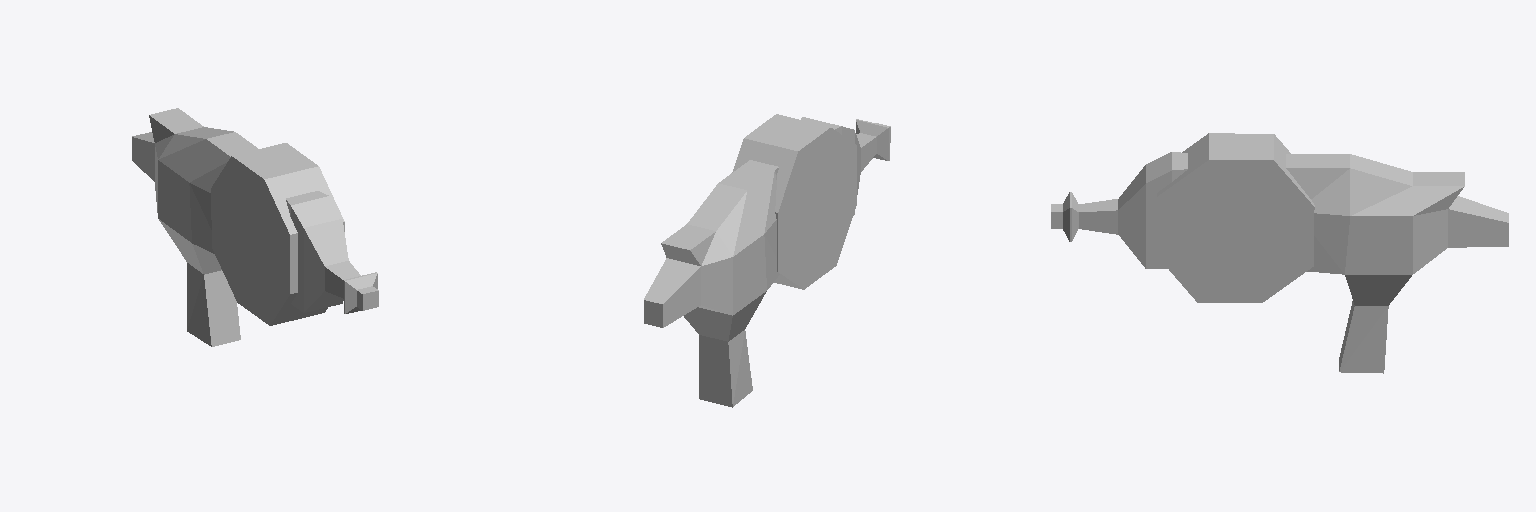
File: IsaiahMUntexturedSpaceBlasterTeamGame.obj
The picture shows the model from 3 angles: view 1: azimuth 30°, elevation 25°; view 2: azimuth 150°, elevation 25°; view 3: azimuth 270°, elevation 25°; orthographic projection.
Visible parts, largest first — view 1: pCube1 group1, group1 pCube2; view 2: pCube1 group1, group1 pCube2; view 3: pCube1 group1, group1 pCube2.
Boxes of the visible parts, box(x1,y1,x2,y2) form: pCube1 group1: box(132, 108, 378, 346); group1 pCube2: box(211, 143, 344, 325); pCube1 group1: box(644, 117, 890, 407); group1 pCube2: box(732, 114, 856, 289); pCube1 group1: box(1051, 152, 1508, 373); group1 pCube2: box(1157, 133, 1314, 302).
Size of the model in its own units: 15.95 by 52.85 by 101.